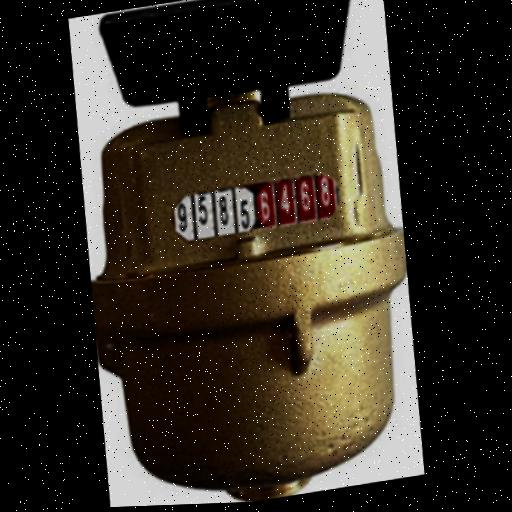4: (275, 177, 297, 225)
5: (234, 184, 259, 233), (193, 191, 218, 239)
6: (254, 180, 278, 229), (294, 175, 318, 223)
8: (315, 173, 343, 219), (212, 187, 237, 236)
9: (170, 194, 195, 243)
border_water_meter_number: (169, 170, 344, 244)
